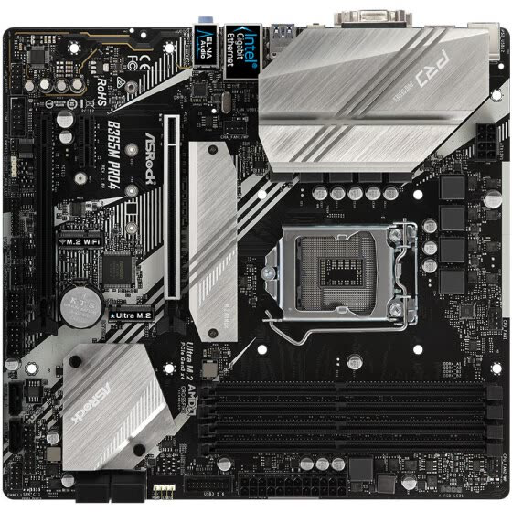CPU: (259, 217, 418, 324)
GPU: (154, 112, 189, 340), (30, 105, 61, 338)
MOTHERBOARD: (2, 10, 512, 500)
RAM: (191, 373, 507, 467)
SSD: (53, 222, 107, 253), (102, 300, 159, 326)
